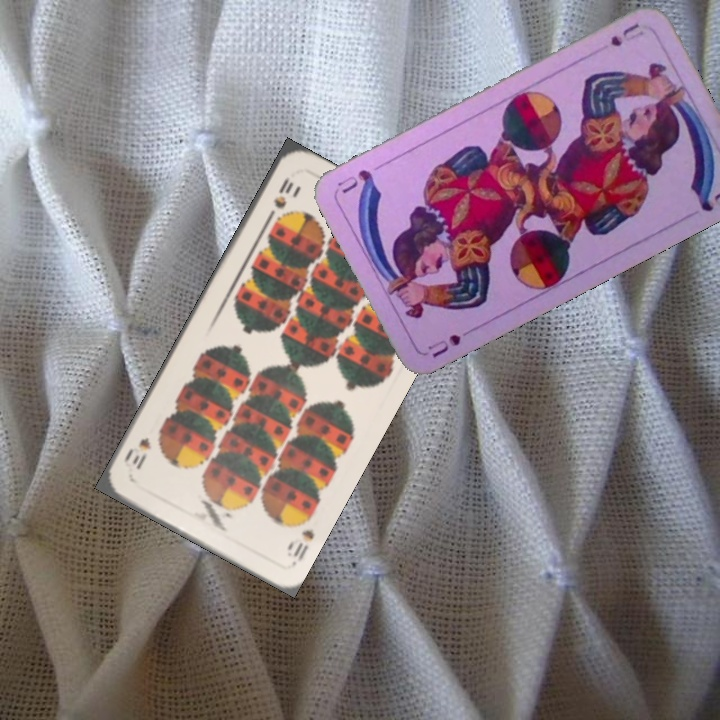S10: (262, 173, 296, 224), (289, 525, 317, 564)
SU: (423, 323, 476, 360), (606, 19, 647, 50)
